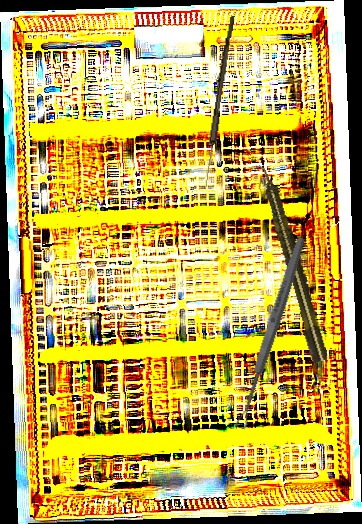Handpiece: (255, 161, 330, 364)
Surgical Spoon: (233, 235, 308, 431), (202, 14, 235, 190)
